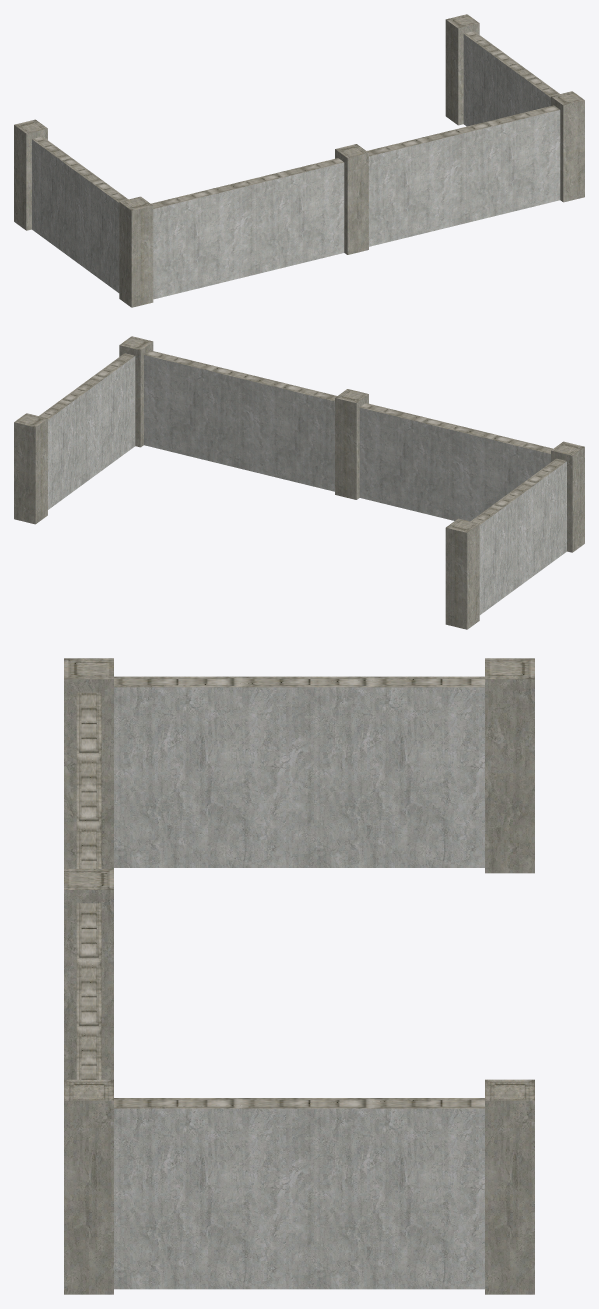
File: poi_corl_corral_half_32x32_s04_l0.fbx
3 views of the same model, one above another, from view 1: azimuth 30°, elevation 25°; view 2: azimuth 150°, elevation 25°; view 3: azimuth 270°, elevation 25° (orthographic). The views are drawn at different scales.
Parts seen in each view (by area): view 1: mesh_node; view 2: mesh_node; view 3: mesh_node.
Part boxes in pixels (<box>): mesh_node: <box>14,14,584,307</box>; mesh_node: <box>14,336,584,629</box>; mesh_node: <box>64,658,534,1294</box>.
Size of the model in its own units: 21 by 4.29 by 9.44.
